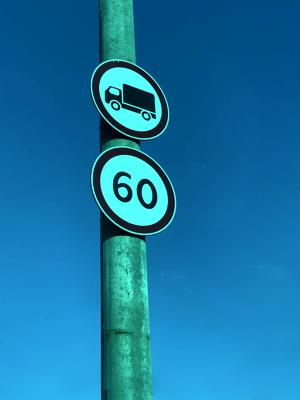Speed Limit -60-: (87, 142, 178, 237)
